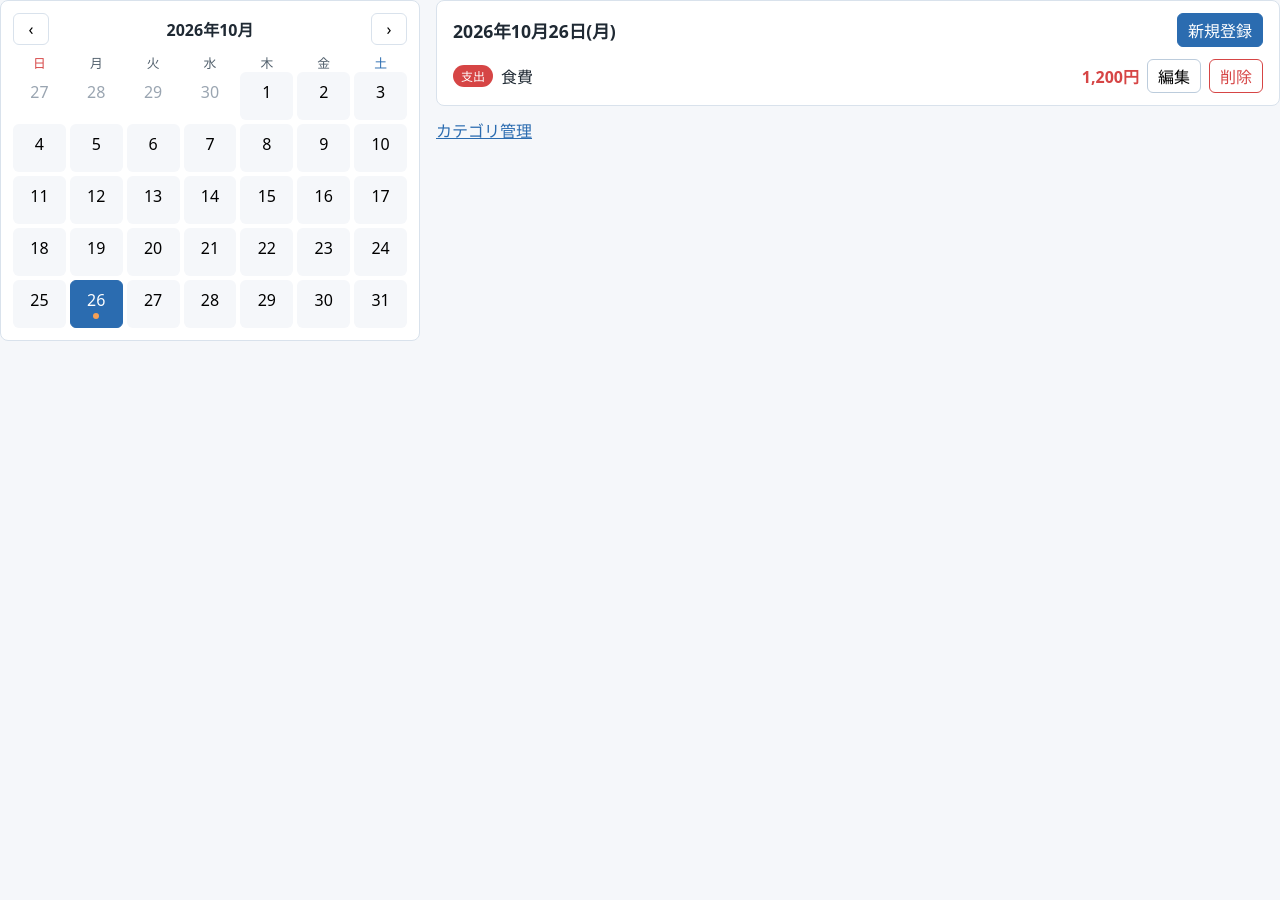
Test: CalendarView › shows an error when deleting a category in use
Step 1. Click the button "カテゴリ管理" → coordinates (484, 130), box [436,118,532,142]
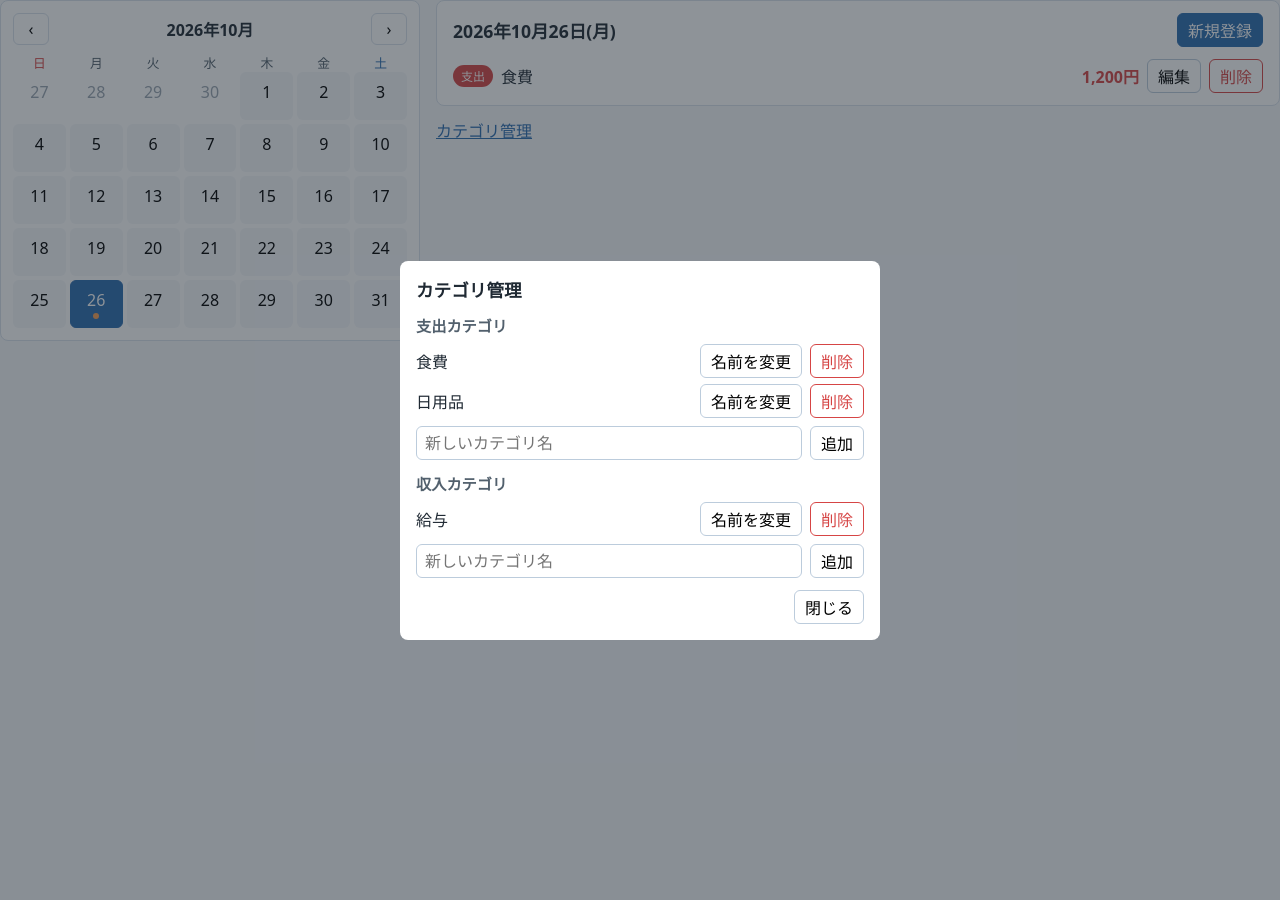
Step 2. Click the 1st button "削除" → coordinates (837, 360), box [810,344,864,378]
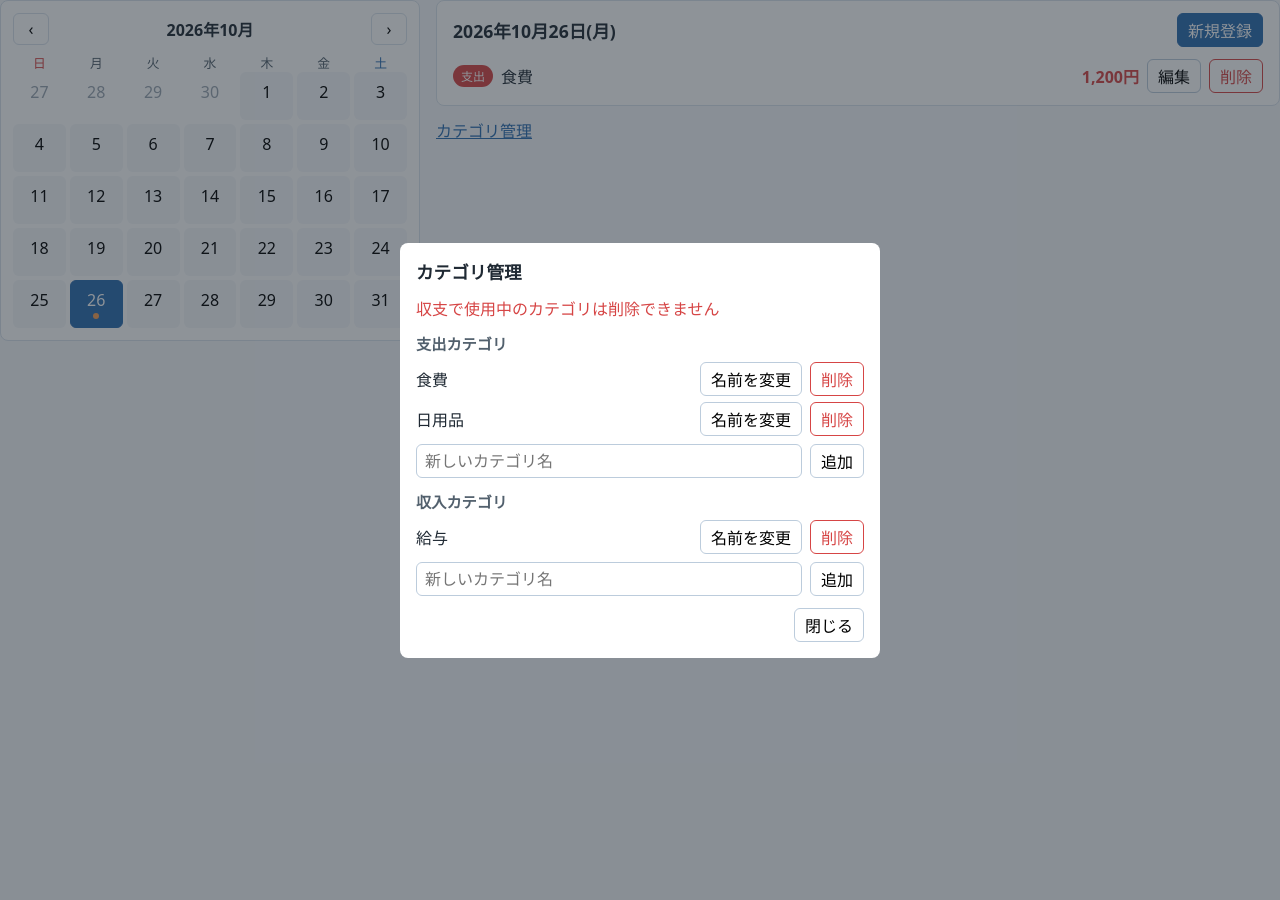
Expected: the list item "食費 名前を変更 削除" is shown, [416,362,864,396]
Expected: the message "収支で使用中のカテゴリは削除できません" is shown, [416,298,720,320]
